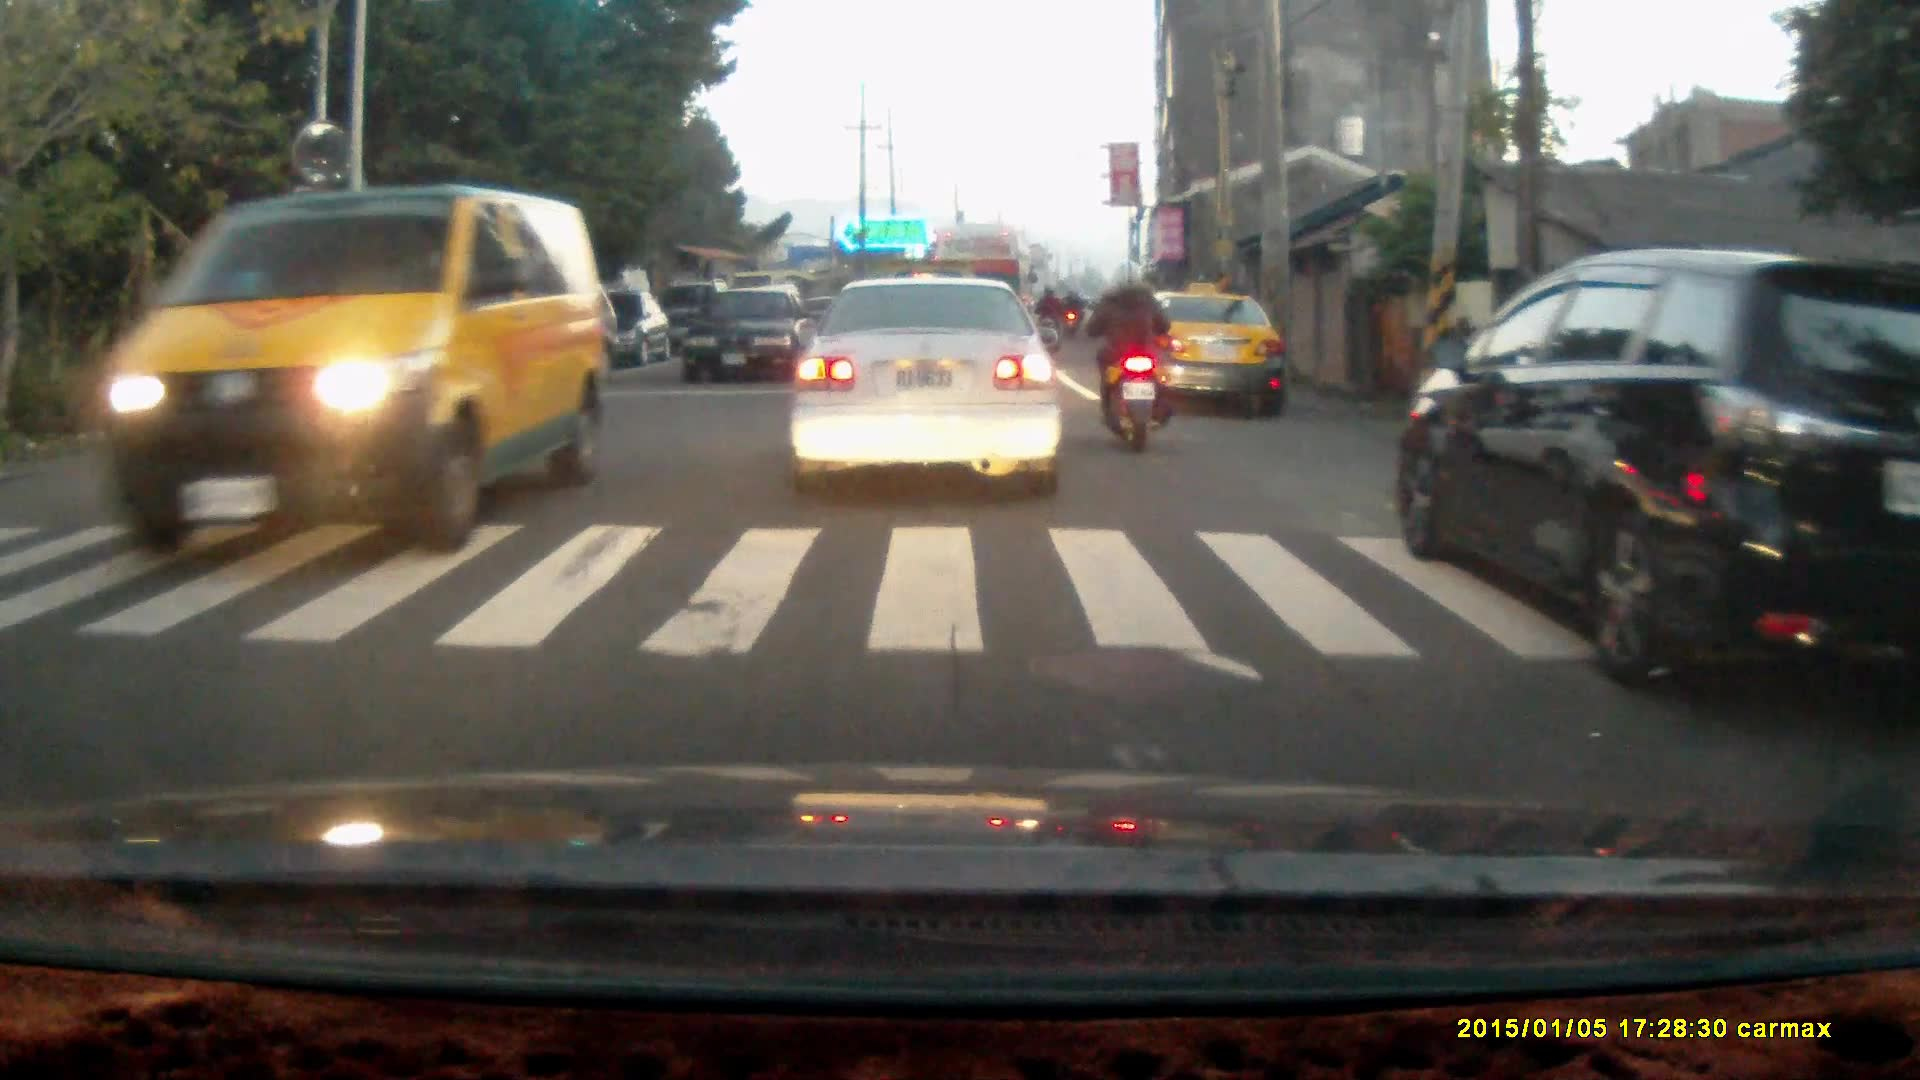rider: (1079, 259, 1170, 455)
vehicle: (1396, 246, 1920, 732), (95, 187, 614, 561), (788, 273, 1066, 501), (1121, 291, 1285, 422), (681, 285, 817, 389)
